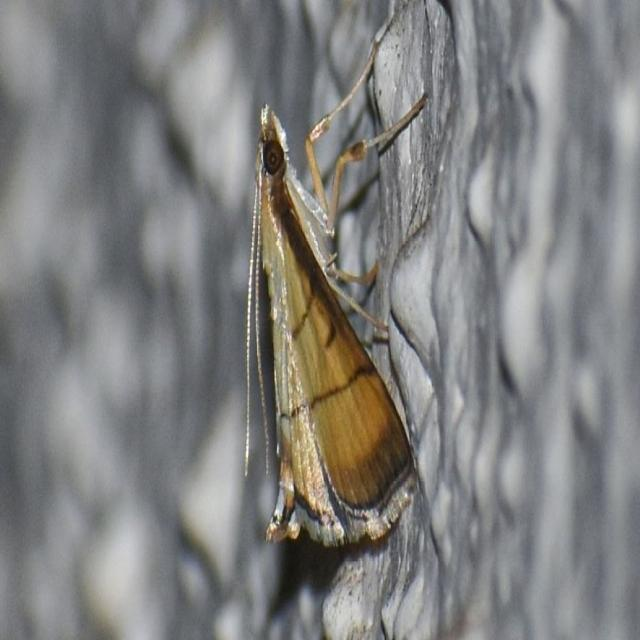rice leaf roller -penggulung daun padi-: (241, 84, 427, 550)
